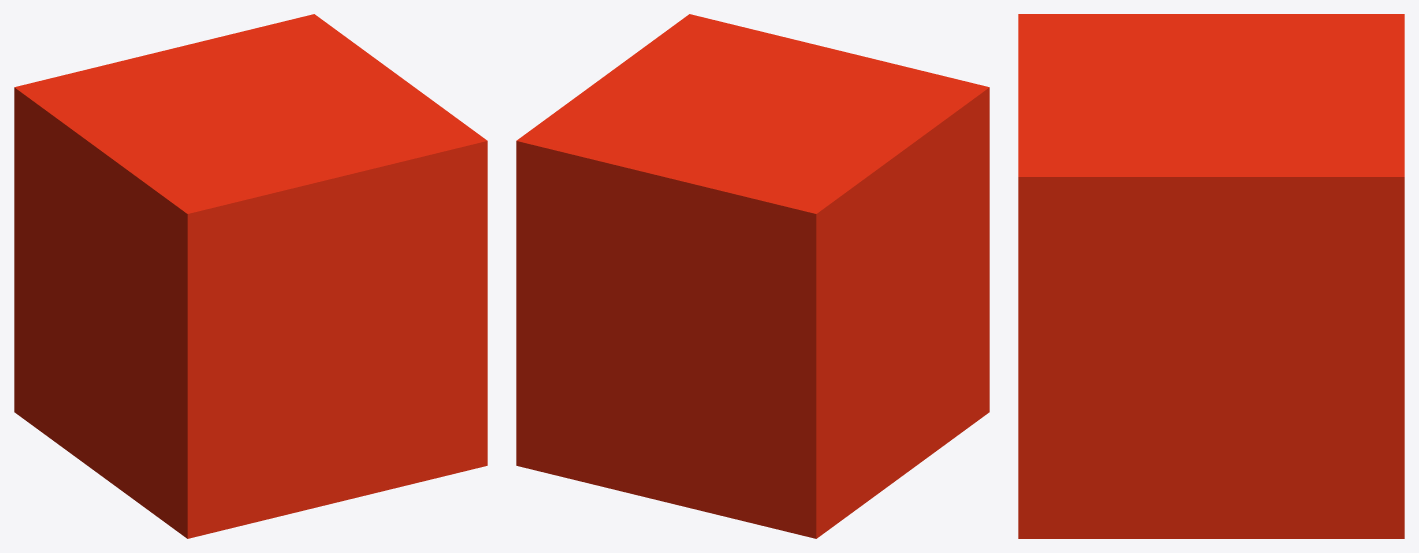
Rendered from spawn_enemy.glb.
The picture shows the model from 3 angles, left to right: view 1: azimuth 30°, elevation 25°; view 2: azimuth 150°, elevation 25°; view 3: azimuth 270°, elevation 25°; orthographic projection. The views are drawn at different scales.
Parts seen in each view (by area): view 1: SpawnEnemy; view 2: SpawnEnemy; view 3: SpawnEnemy.
Boxes of the visible parts, <box> form: SpawnEnemy: <box>14,14,487,538</box>; SpawnEnemy: <box>516,14,989,538</box>; SpawnEnemy: <box>1018,14,1404,538</box>.
Size of the model in its own units: 0.4835 by 0.5 by 0.4835.
1 material, 1 textured.
